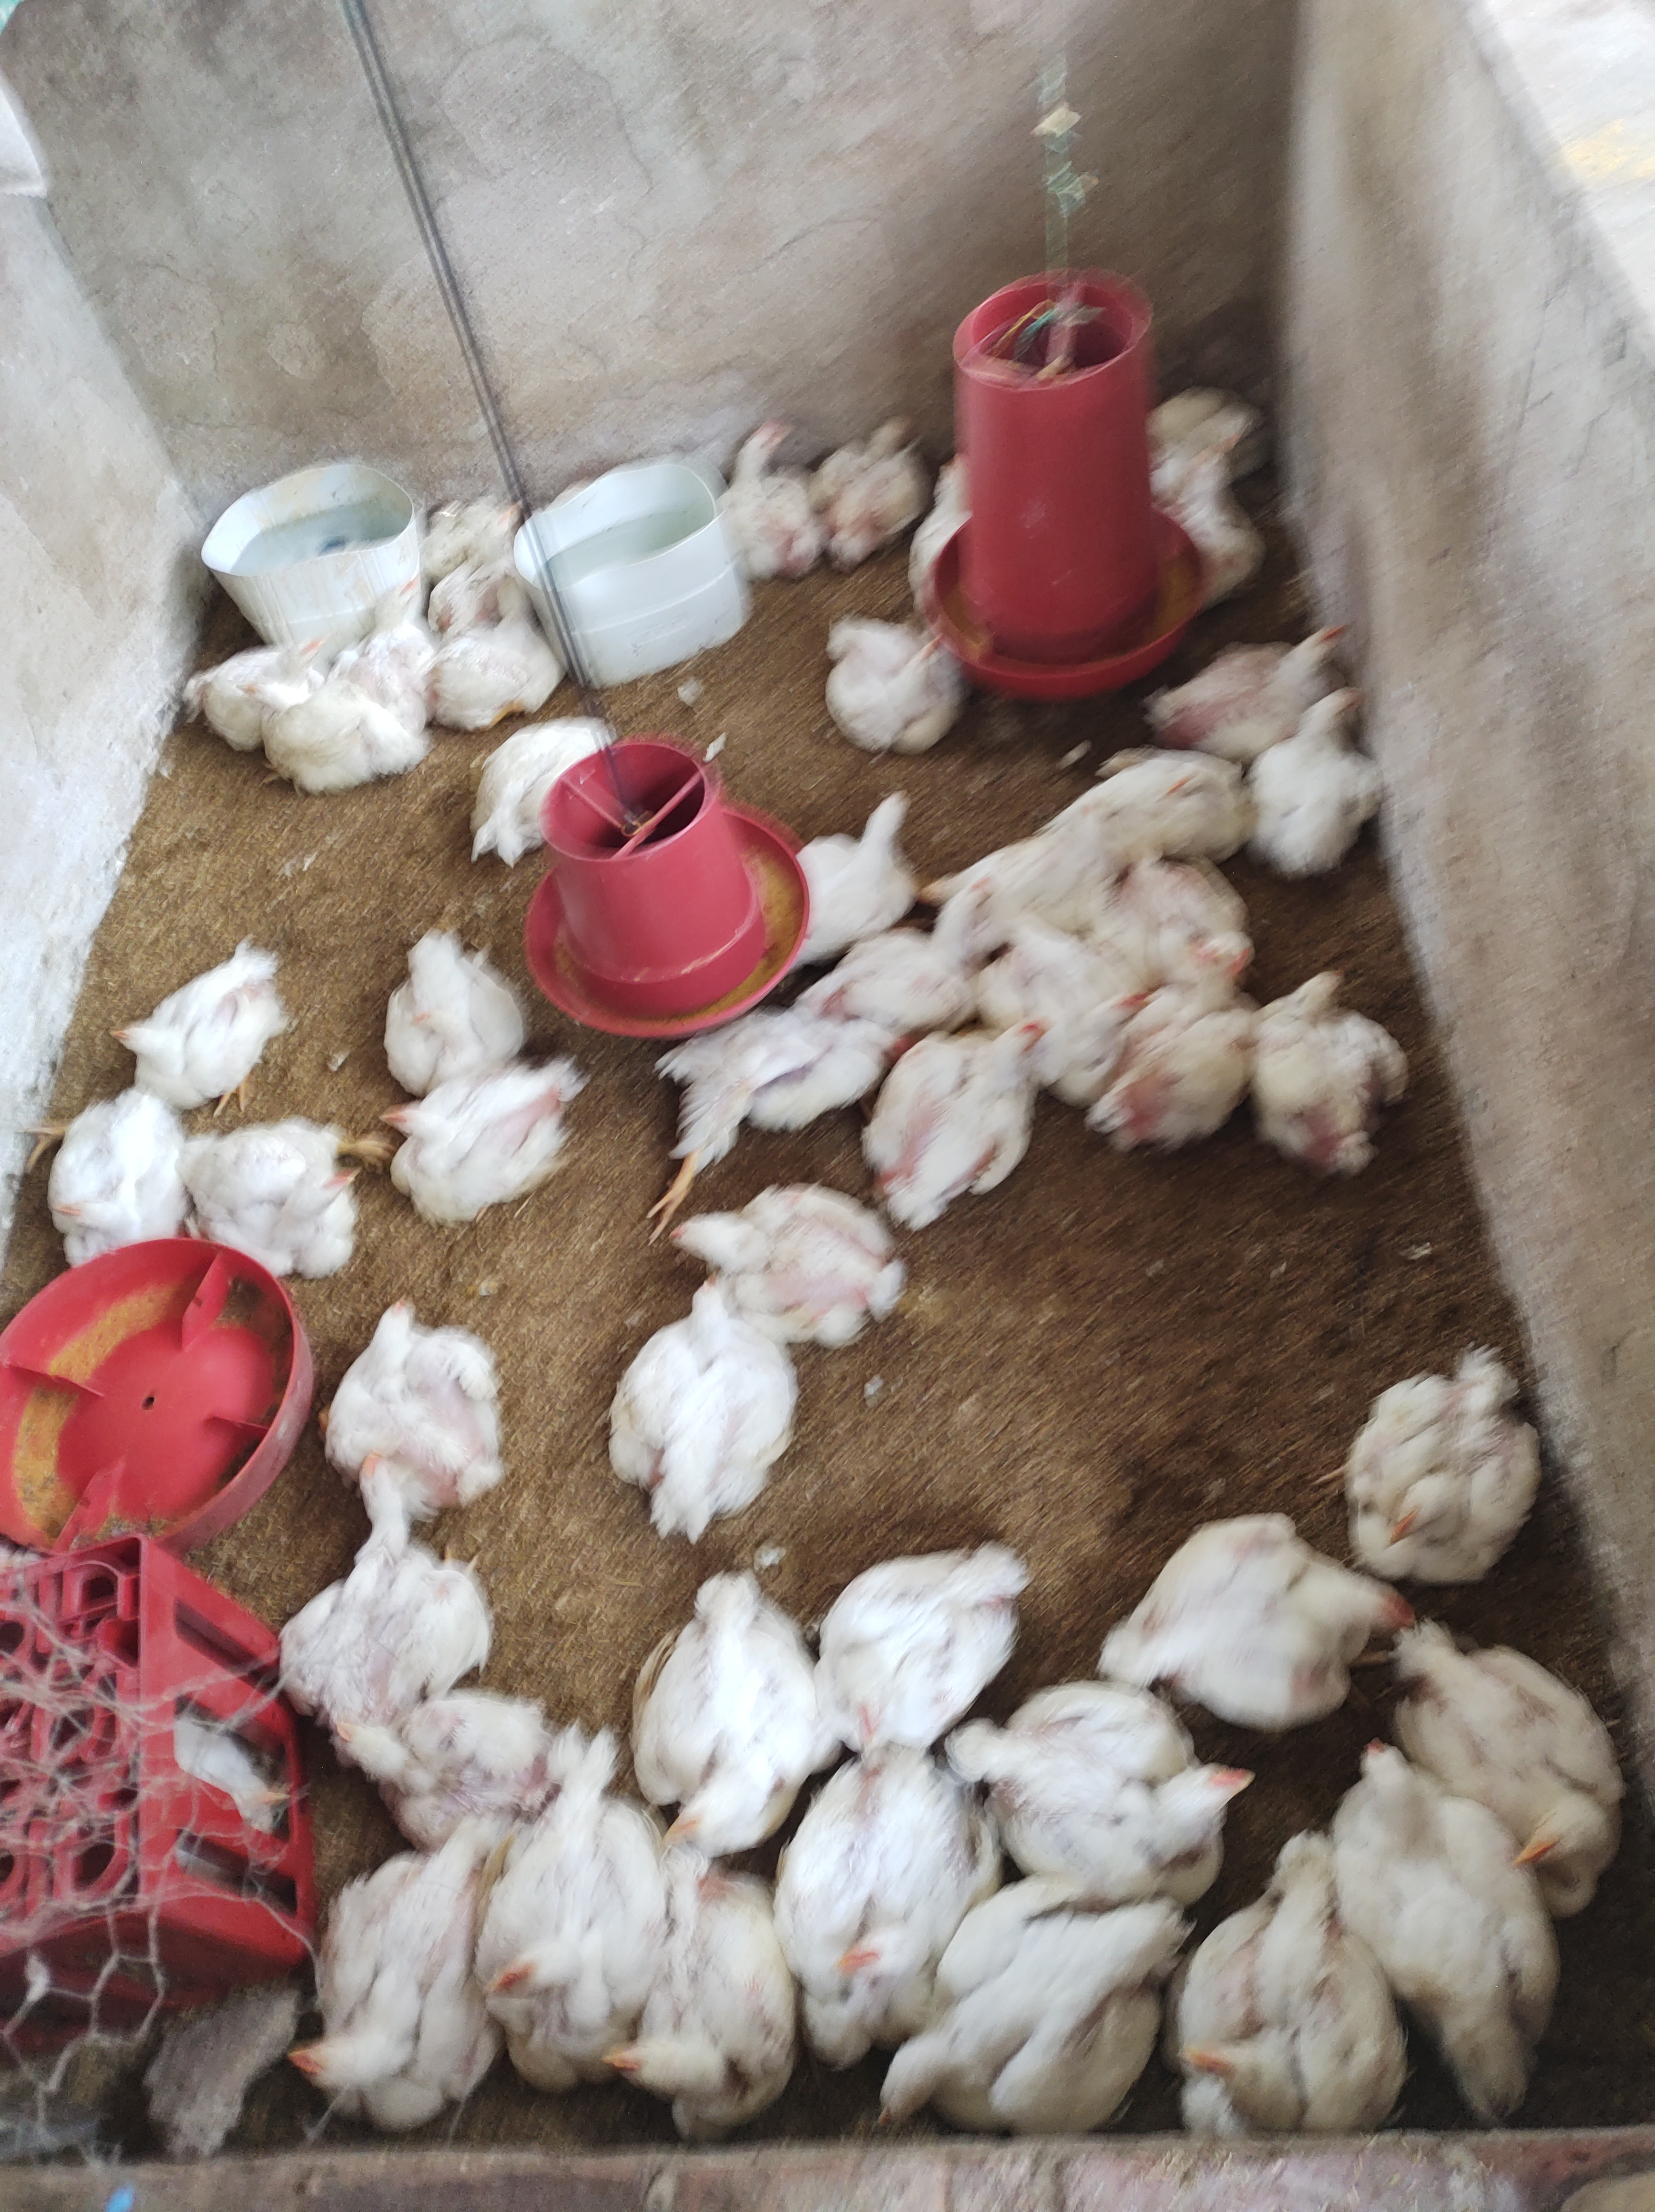Pollos: (1137, 1824, 1419, 2174), (1356, 1770, 1613, 2144), (866, 1902, 1172, 2163), (556, 1562, 841, 1824), (1429, 1621, 1648, 1935), (257, 1840, 490, 2132), (1050, 1513, 1391, 1702), (982, 1683, 1264, 1906), (777, 1739, 975, 2052), (480, 1769, 675, 2082), (812, 1513, 1055, 1756), (595, 1266, 800, 1546), (608, 1869, 810, 2135), (626, 986, 895, 1183), (273, 1449, 490, 1685), (1366, 1339, 1545, 1581), (675, 1167, 906, 1351), (320, 1656, 549, 1838), (327, 1276, 509, 1506), (1113, 908, 1293, 1136), (160, 1120, 402, 1290), (367, 1071, 595, 1247), (1260, 944, 1439, 1163), (871, 1003, 1060, 1191), (678, 403, 827, 600), (391, 894, 530, 1097), (28, 1073, 188, 1247), (1274, 682, 1401, 890), (123, 925, 290, 1080), (1050, 718, 1248, 842), (447, 748, 643, 871), (786, 784, 930, 946), (1026, 915, 1163, 1083), (810, 621, 968, 767), (160, 1699, 290, 1861), (859, 871, 996, 1019), (1154, 438, 1285, 590), (252, 680, 398, 810), (440, 583, 555, 743), (883, 450, 1015, 586), (789, 402, 907, 536), (160, 614, 322, 704), (342, 562, 435, 692), (1213, 600, 1373, 664), (412, 471, 515, 550)
